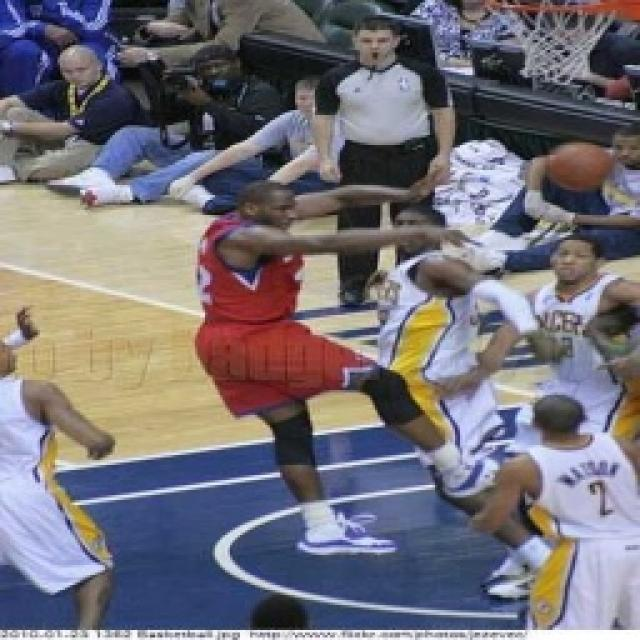rim: (538, 138, 617, 200)
